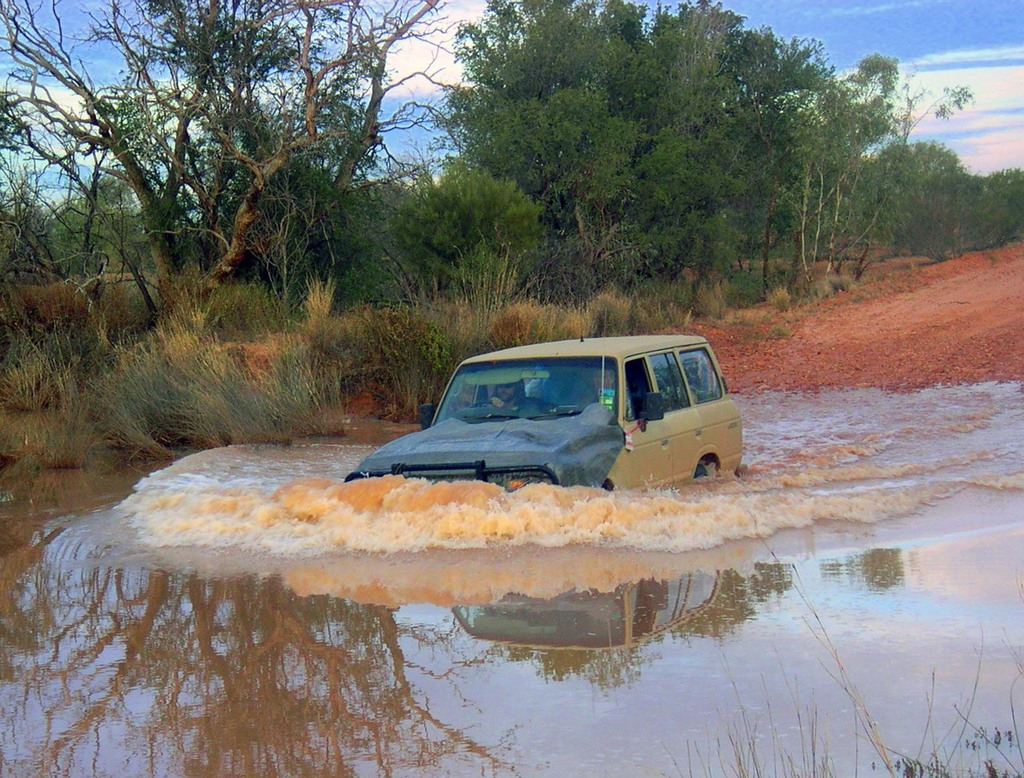Car: (343, 277, 742, 494)
